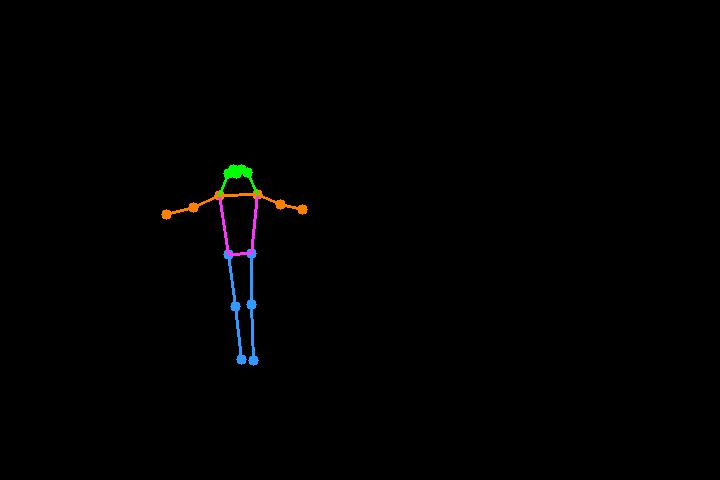normal: (157, 156, 321, 380)
